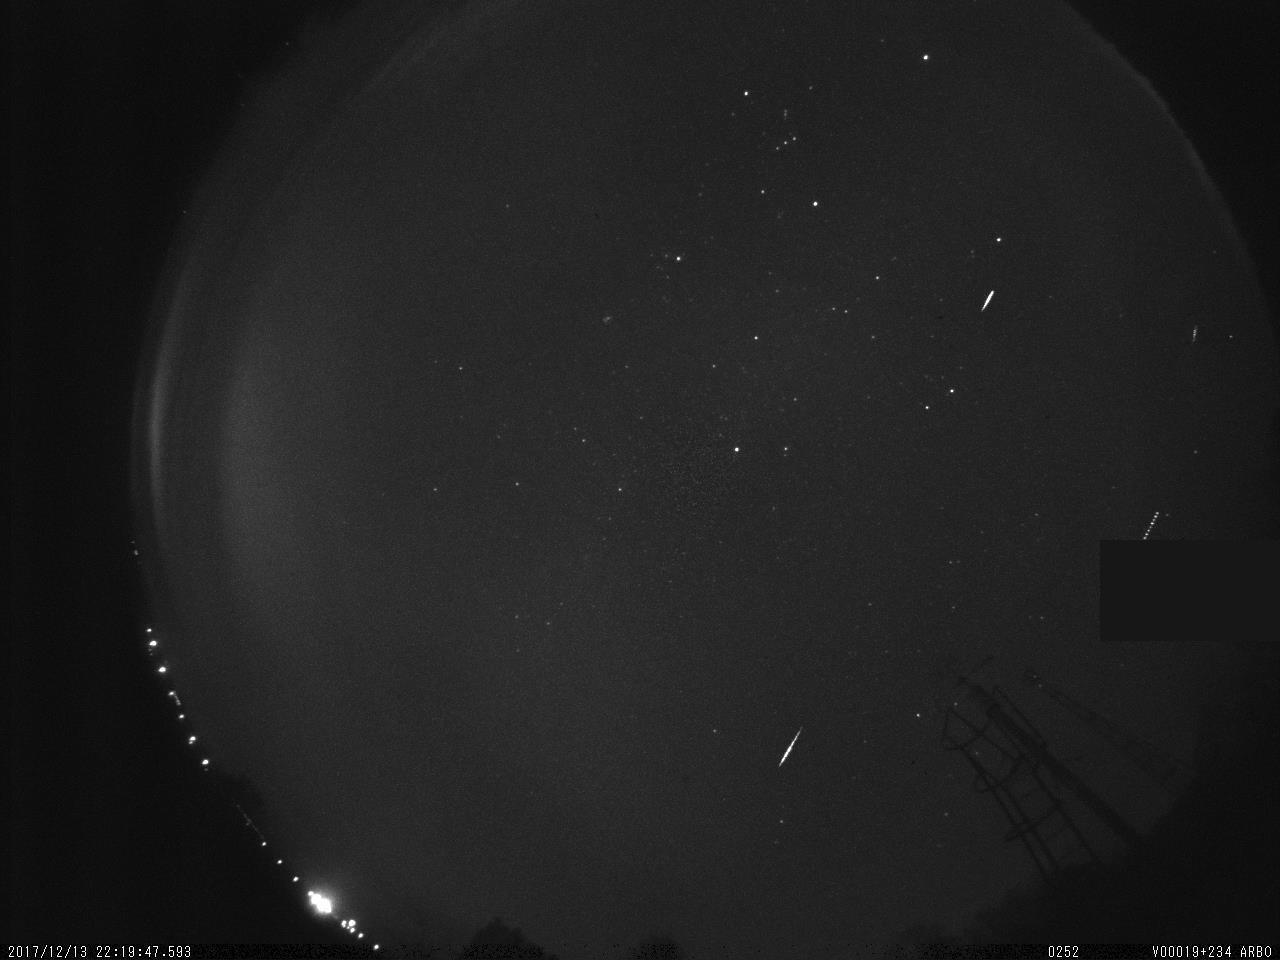Meteor: (776, 724, 803, 767), (1187, 320, 1202, 351), (979, 287, 996, 312)
